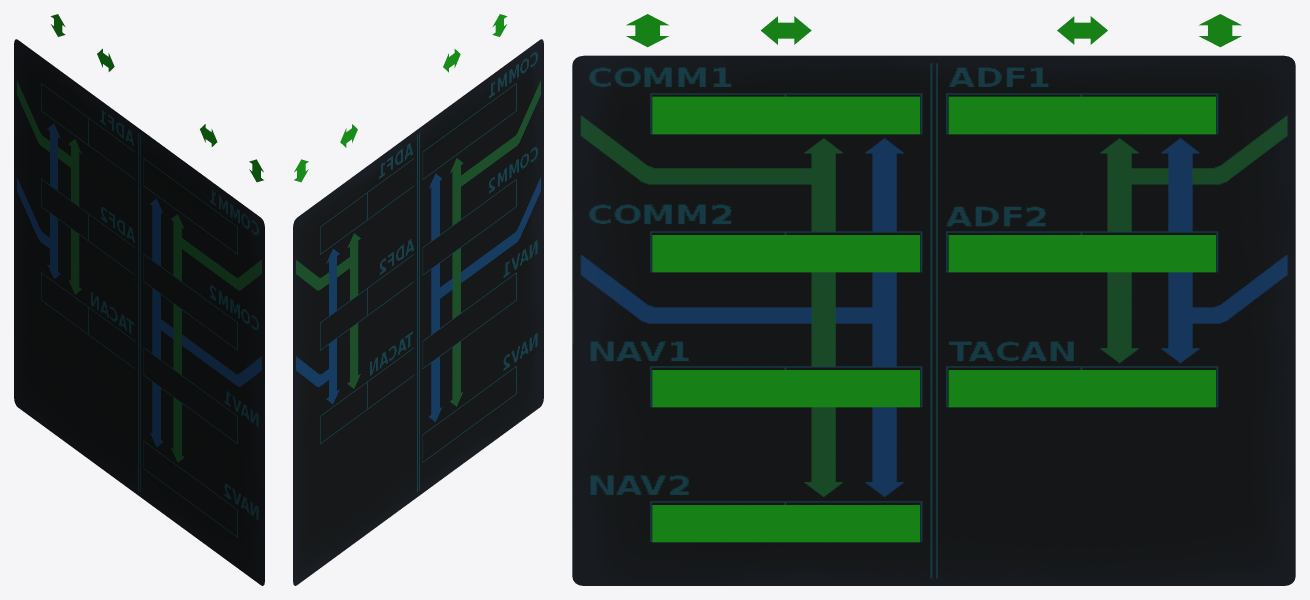
File: mfd_rmu.fbx
3 renders of one model, left to right at view 1: azimuth 30°, elevation 25°; view 2: azimuth 150°, elevation 25°; view 3: azimuth 270°, elevation 25°, orthographic. The views are drawn at different scales.
Visible parts, largest first — view 1: RMU-ecran, RMU-rep-bt; view 2: RMU-ecran, RMU-rep-bt; view 3: RMU-ecran, RMU-rep-comm1, RMU-rep-adf1, RMU-rep-comm2, RMU-rep-nav1, RMU-rep-nav2, RMU-rep-adf2, RMU-rep-tacan, RMU-rep-bt.
Part boxes in pixels (box(x1,y1,x2,y2)): RMU-ecran: box(14, 39, 264, 585); RMU-rep-bt: box(50, 14, 263, 182); RMU-ecran: box(293, 39, 543, 585); RMU-rep-bt: box(294, 14, 507, 182); RMU-ecran: box(572, 55, 1295, 585); RMU-rep-comm1: box(652, 96, 919, 134); RMU-rep-adf1: box(948, 96, 1215, 134); RMU-rep-comm2: box(652, 235, 919, 272); RMU-rep-nav1: box(652, 370, 919, 407); RMU-rep-nav2: box(652, 505, 919, 542); RMU-rep-adf2: box(948, 235, 1215, 272); RMU-rep-tacan: box(948, 370, 1215, 407); RMU-rep-bt: box(626, 14, 1241, 47).
Size of the model in its own units: 0.601 by 14.59 by 13.02.
2 materials, 2 textured.
